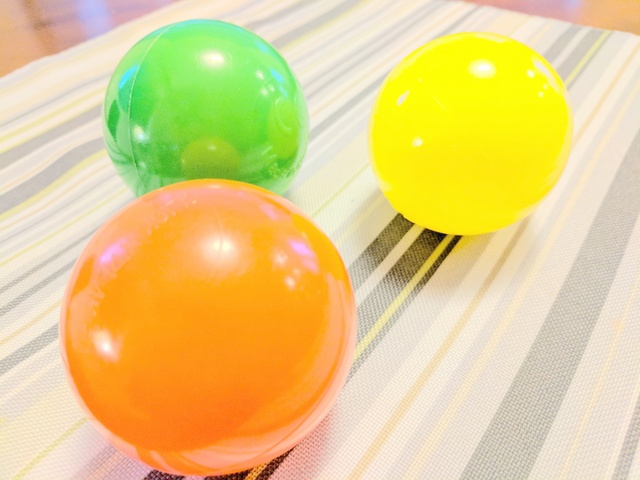ball: (365, 29, 573, 237)
